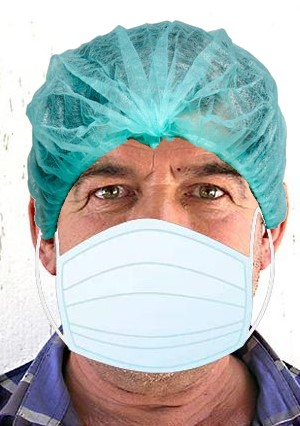with_mask_and_cap: (27, 22, 284, 379)
